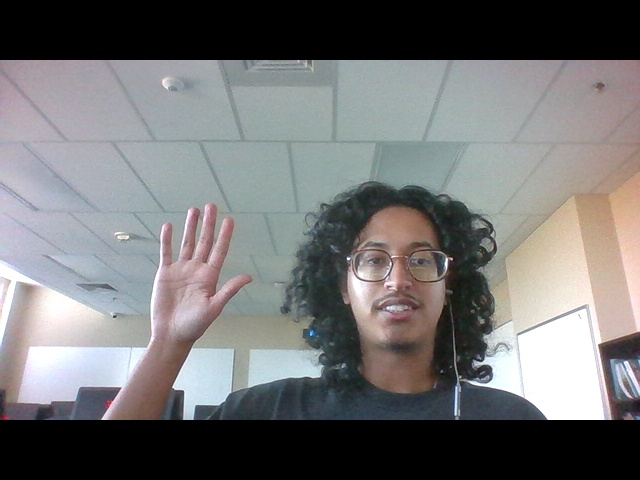hello: (148, 197, 254, 350)
